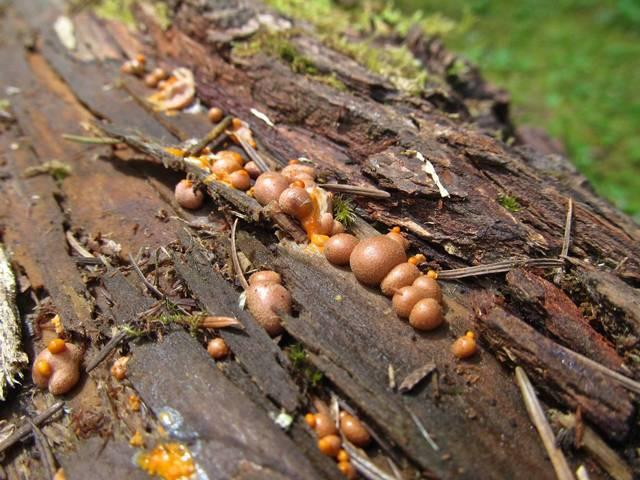Non-edible Mushroom: (30, 336, 83, 395), (348, 234, 406, 284), (241, 280, 292, 334), (391, 274, 441, 317), (252, 171, 288, 205), (277, 185, 313, 218), (408, 297, 443, 330), (323, 232, 358, 265), (173, 177, 204, 209), (450, 329, 477, 358), (206, 336, 229, 359)
